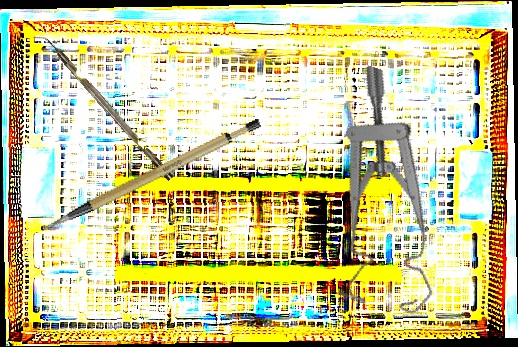Chopper: (31, 27, 174, 188)
Scalpel Handle: (31, 115, 272, 232)
Speculum: (290, 63, 497, 325)
